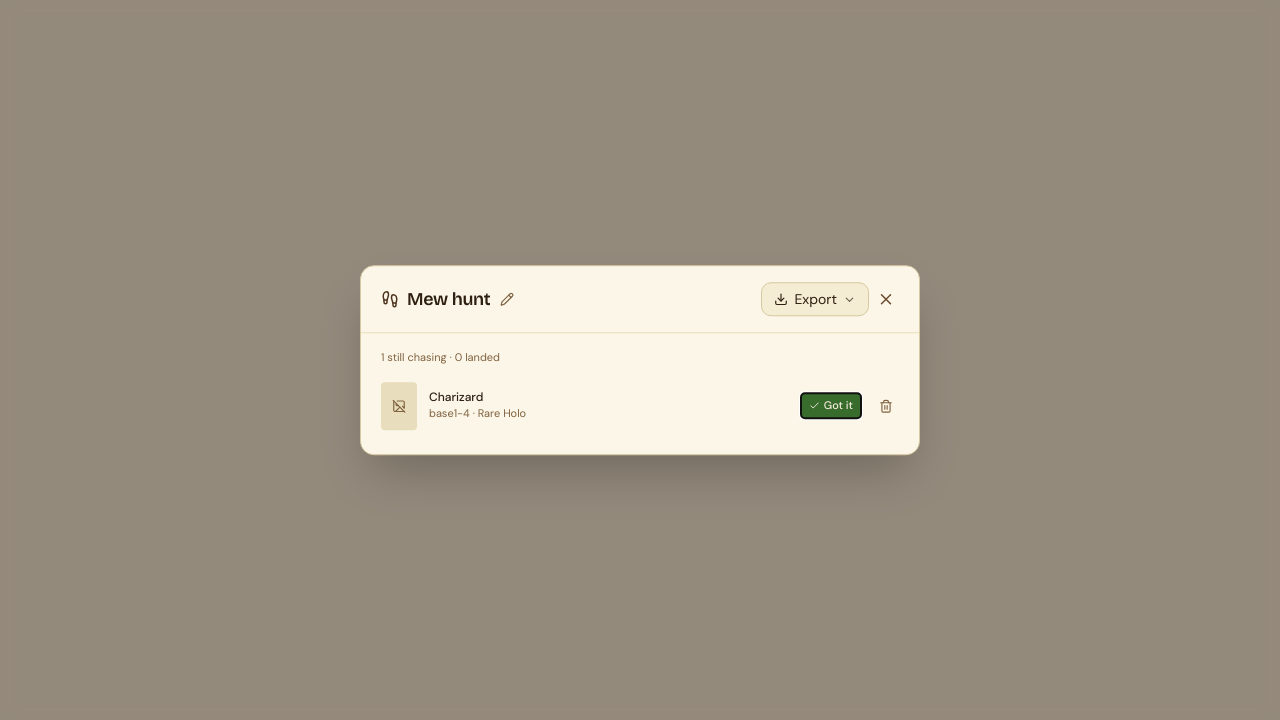
Test: WishlistDetail › promotes an item into a collection and marks it acquired
Expected: the text "Charizard" is shown, x1=429 y1=390 x2=483 y2=406
Press Enter in the button "Got it", box x1=801 y1=394 x2=861 y2=418
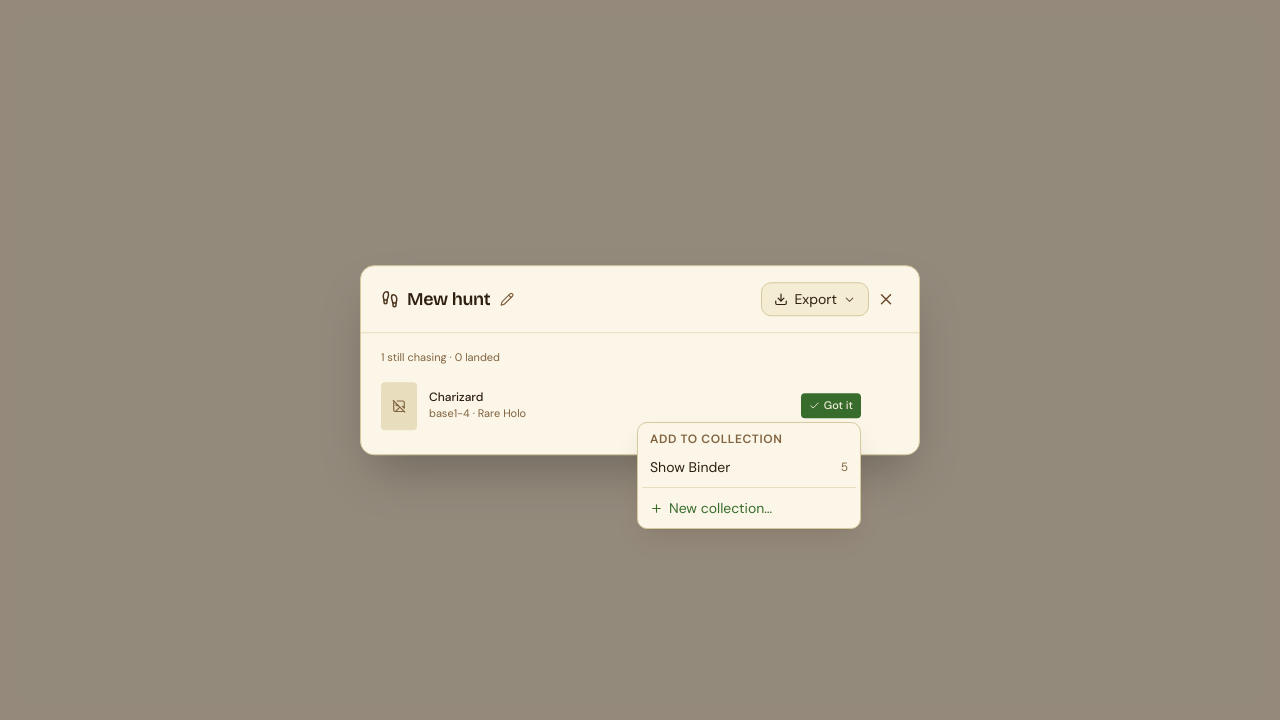
Click the menu item "Show Binder 5" at (690, 467), box x1=650 y1=458 x2=848 y2=476
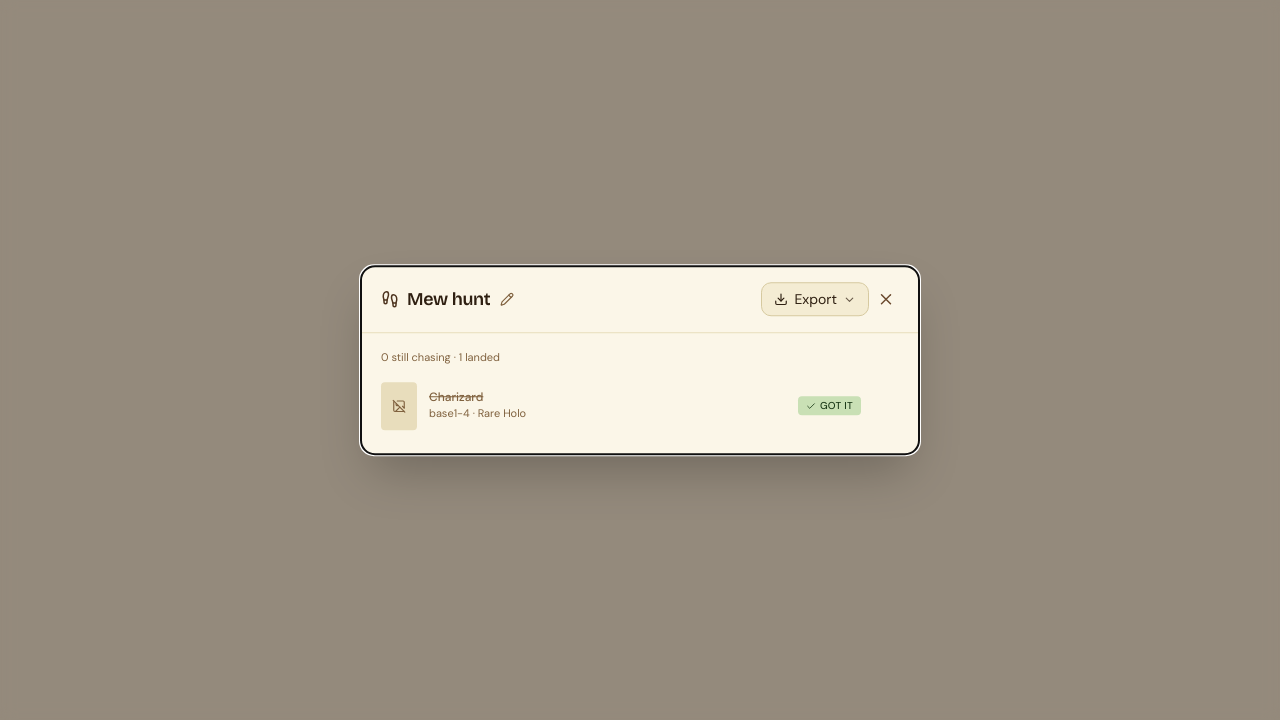
Now the text "0 still chasing · 1 landed" is shown, box x1=381 y1=350 x2=500 y2=364
